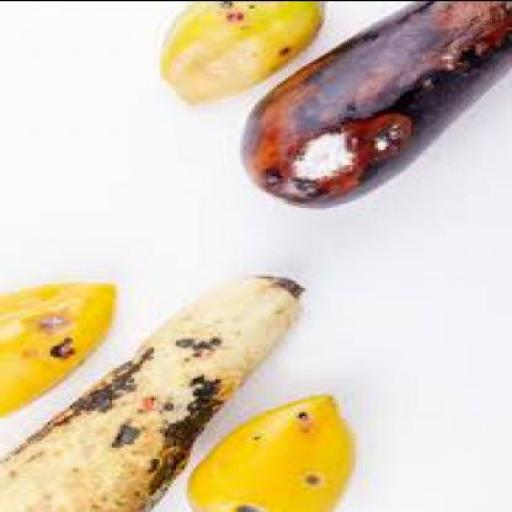biodegradable: (2, 272, 306, 510), (245, 1, 511, 206), (193, 392, 356, 510), (2, 276, 120, 414), (168, 0, 328, 101)
